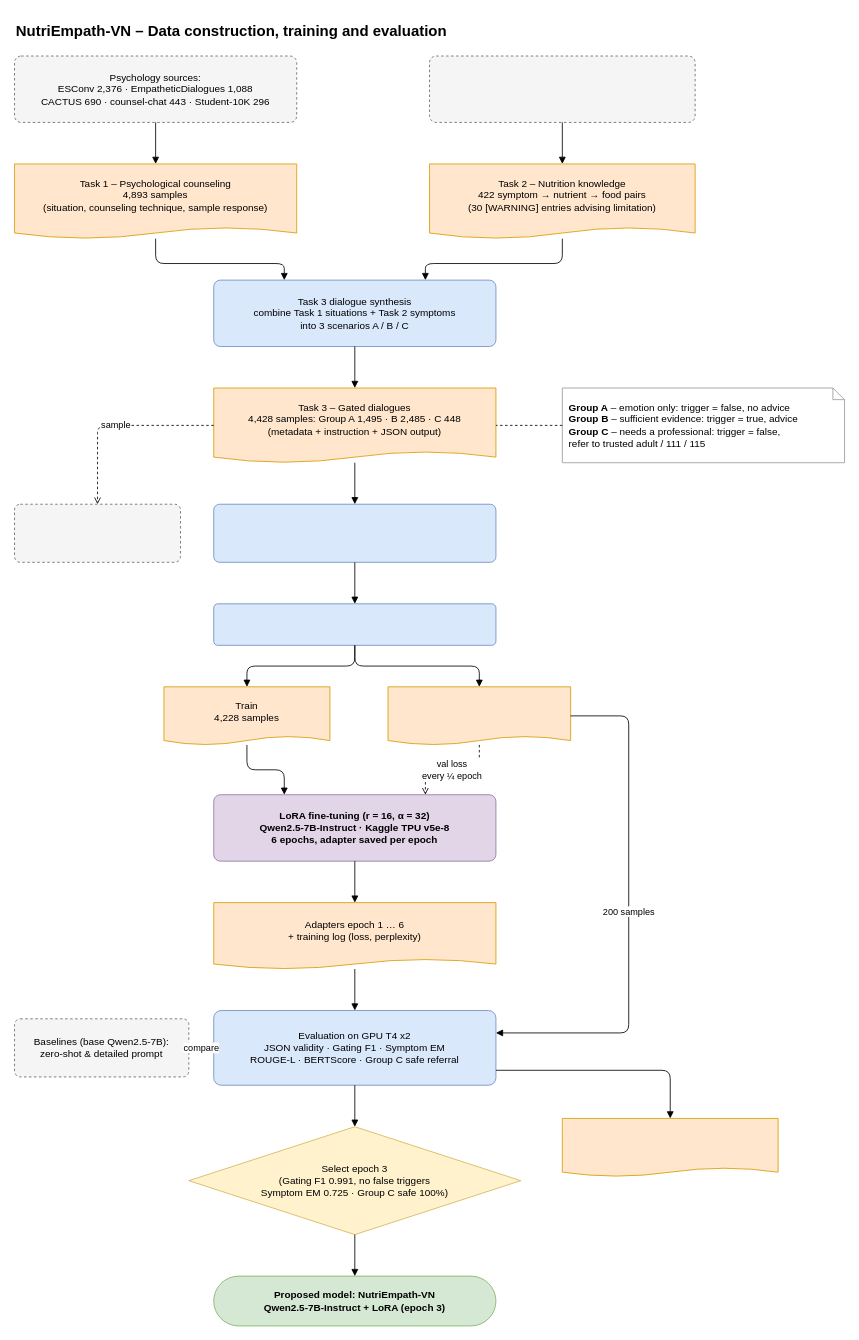
Image size: 859x1340. Some labels were removed from this diagram. The shapes that lost their labels are listed below. From the top down, each one's centre as x and y in pixels, then its label:
At (x=562, y=88): "Nutrition sources: PubMed · EU Reg. 432/2012 VN FCT 2007 · USDA FDC".
At (x=97, y=532): "Expert review 40 samples".
At (x=354, y=532): "ChatML formatting (metadata removed)".
At (x=354, y=624): "Stratified split by group (seed 42)".
At (x=479, y=715): "Validation 200 samples (A 68 · B 112 · C 20)".
At (x=669, y=1147): "Metrics tables, predictions and figures (loss, PPL)".
